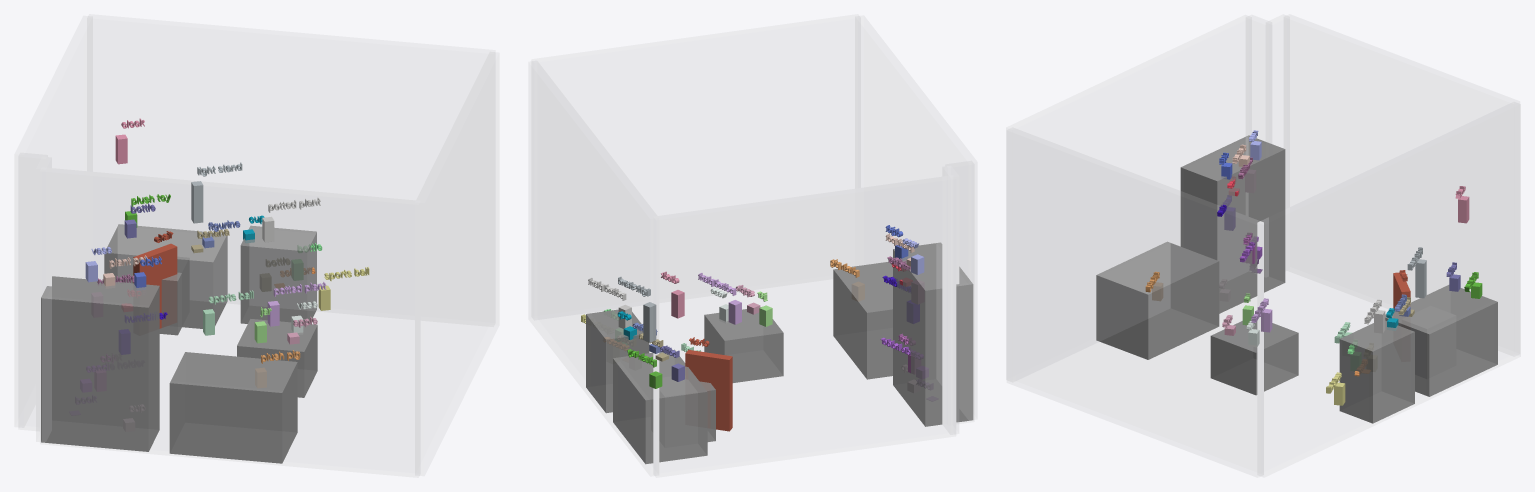
File: livingroom_semantic.fbx
3 renders of one model, left to right at view 1: azimuth 30°, elevation 25°; view 2: azimuth 150°, elevation 25°; view 3: azimuth 270°, elevation 25°, orthographic. The views are drawn at different scales.
Visible parts, largest first — view 1: Node_10, Node_6, Node_9, Node_11, Node_7, Node_61, Node_8, Node_53; view 2: Node_10, Node_11, Node_6, Node_7, Node_9, Node_61, Node_8, Node_53; view 3: Node_10, Node_6, Node_11, Node_9, Node_7.
Part boxes in pixels (box(x1,y1,x2,y2)): Node_10: box(41, 276, 159, 451); Node_6: box(169, 352, 297, 463); Node_9: box(240, 225, 316, 323); Node_11: box(104, 224, 227, 328); Node_7: box(237, 319, 317, 397); Node_61: box(133, 243, 177, 328); Node_8: box(131, 272, 181, 335); Node_53: box(191, 181, 203, 223); Node_10: box(893, 242, 973, 426); Node_11: box(613, 349, 707, 464); Node_6: box(833, 261, 892, 379); Node_7: box(704, 307, 783, 382); Node_9: box(586, 309, 649, 413); Node_61: box(685, 349, 732, 431); Node_8: box(699, 381, 715, 441); Node_53: box(643, 302, 656, 342); Node_10: box(1180, 135, 1285, 313); Node_6: box(1096, 241, 1219, 359); Node_11: box(1385, 285, 1497, 396); Node_9: box(1339, 320, 1414, 423); Node_7: box(1210, 321, 1298, 395).
Size of the model in its own units: 543 by 303 by 559.
